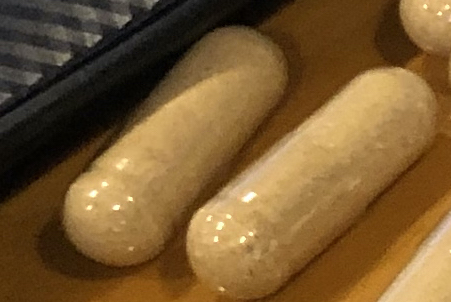capsule: (186, 67, 437, 302), (60, 22, 290, 268)
